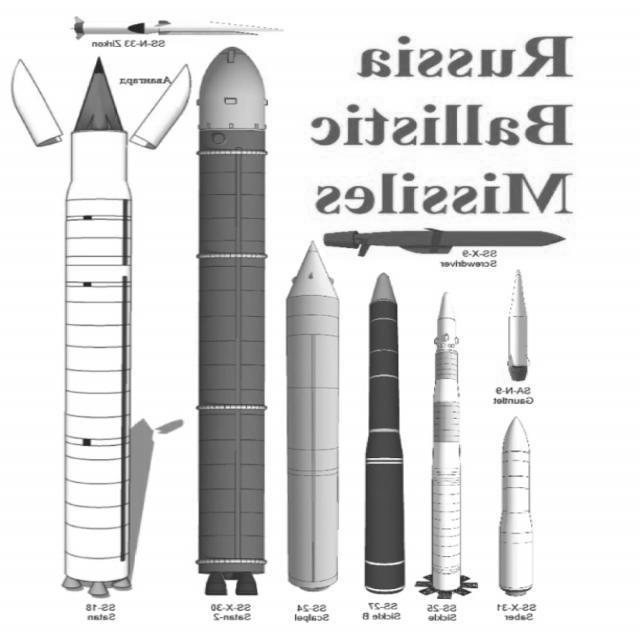Missile: (187, 41, 279, 600), (279, 242, 347, 600), (413, 285, 479, 602), (358, 261, 413, 599), (490, 411, 548, 600), (63, 10, 278, 44), (495, 267, 543, 388)
